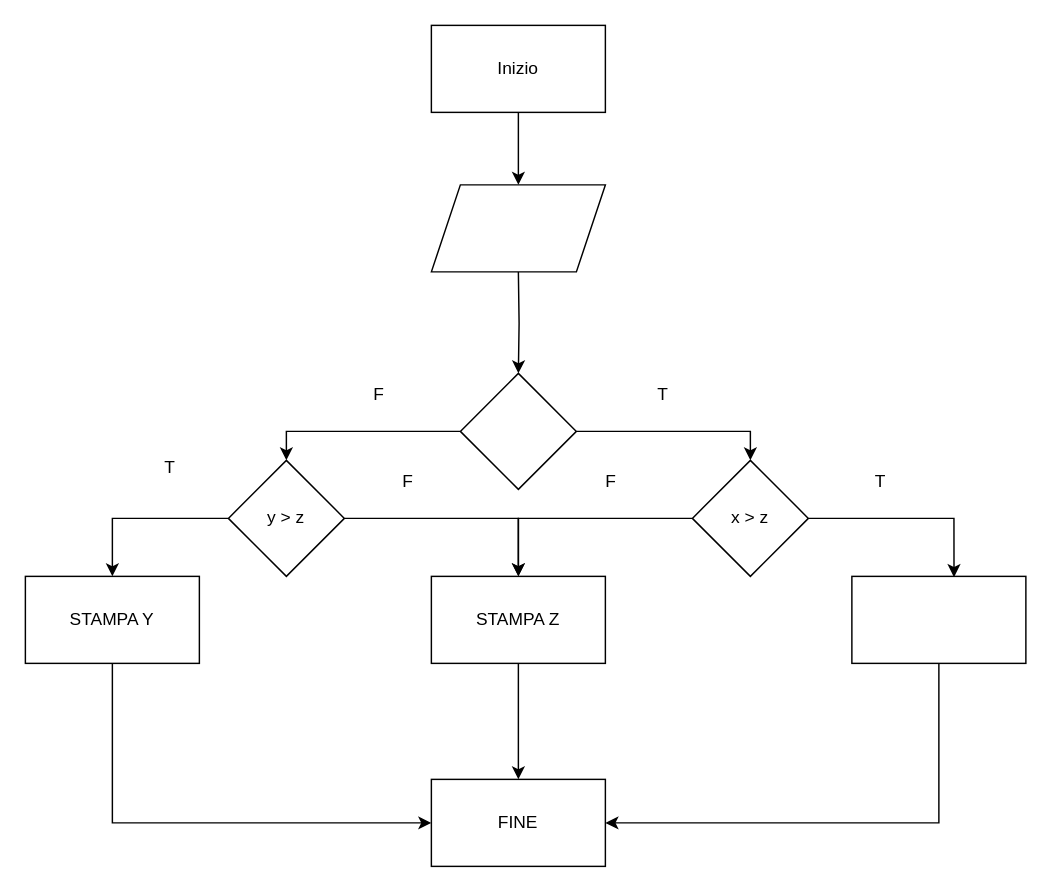
Some shapes in this 1051 by 892 pixel diagram are drawn without their labels. The shapes that lost their labels are listed below. From the top down, each one's centre as x and y in pixels, then its label:
At pixel 517 227: "Leggi x,y,z".
At pixel 517 430: "x > y".
At pixel 938 619: "STAMPA X".
